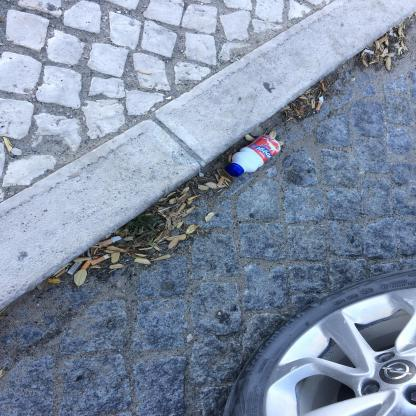plastik: (227, 136, 282, 178)
